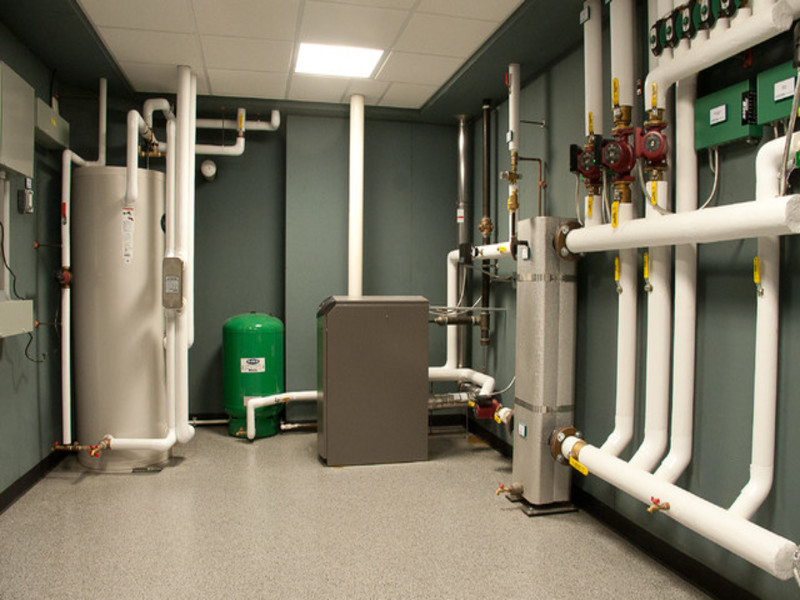valve: (743, 254, 773, 300), (646, 79, 667, 136), (608, 75, 627, 136), (560, 447, 594, 480), (636, 250, 655, 306), (641, 163, 661, 208), (578, 179, 597, 226), (606, 180, 624, 229), (606, 253, 624, 298), (483, 405, 507, 428), (581, 107, 595, 142), (233, 114, 249, 143), (489, 244, 514, 260), (463, 398, 477, 413)
